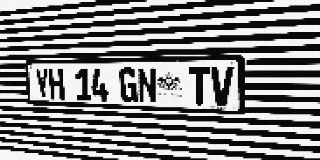1: (75, 68, 92, 101)
4: (91, 68, 108, 102)
G: (119, 67, 138, 103)
H: (48, 68, 65, 100)
N: (137, 67, 157, 103)
T: (189, 67, 210, 105)
V: (211, 66, 234, 106)
Y: (34, 69, 50, 99)
